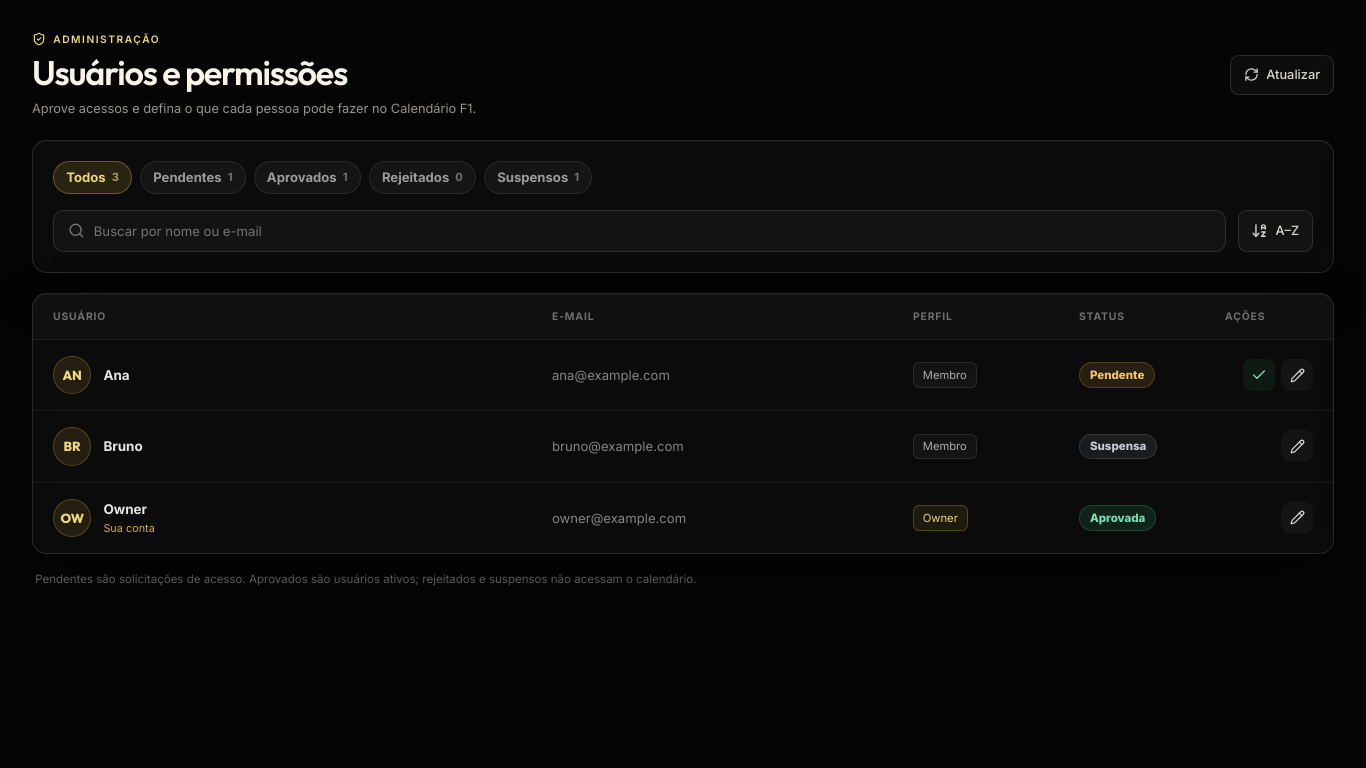
Test case: reference-style users panel › requires explicit deletion confirmation and updates only after success
Click the button named "Editar Ana". click: click(1297, 375)
box: [1281, 359, 1313, 391]
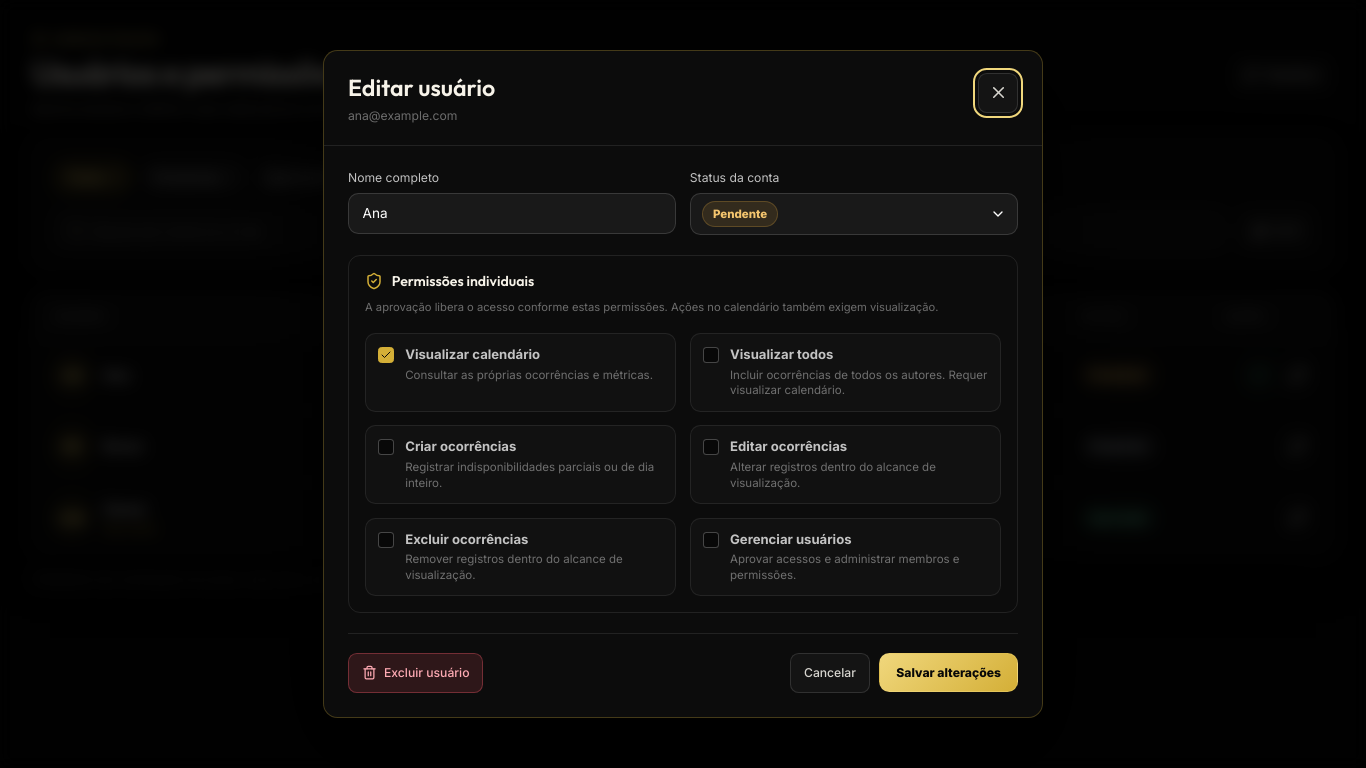
Click the button "Excluir usuário". click: click(416, 673)
box: [348, 653, 483, 693]
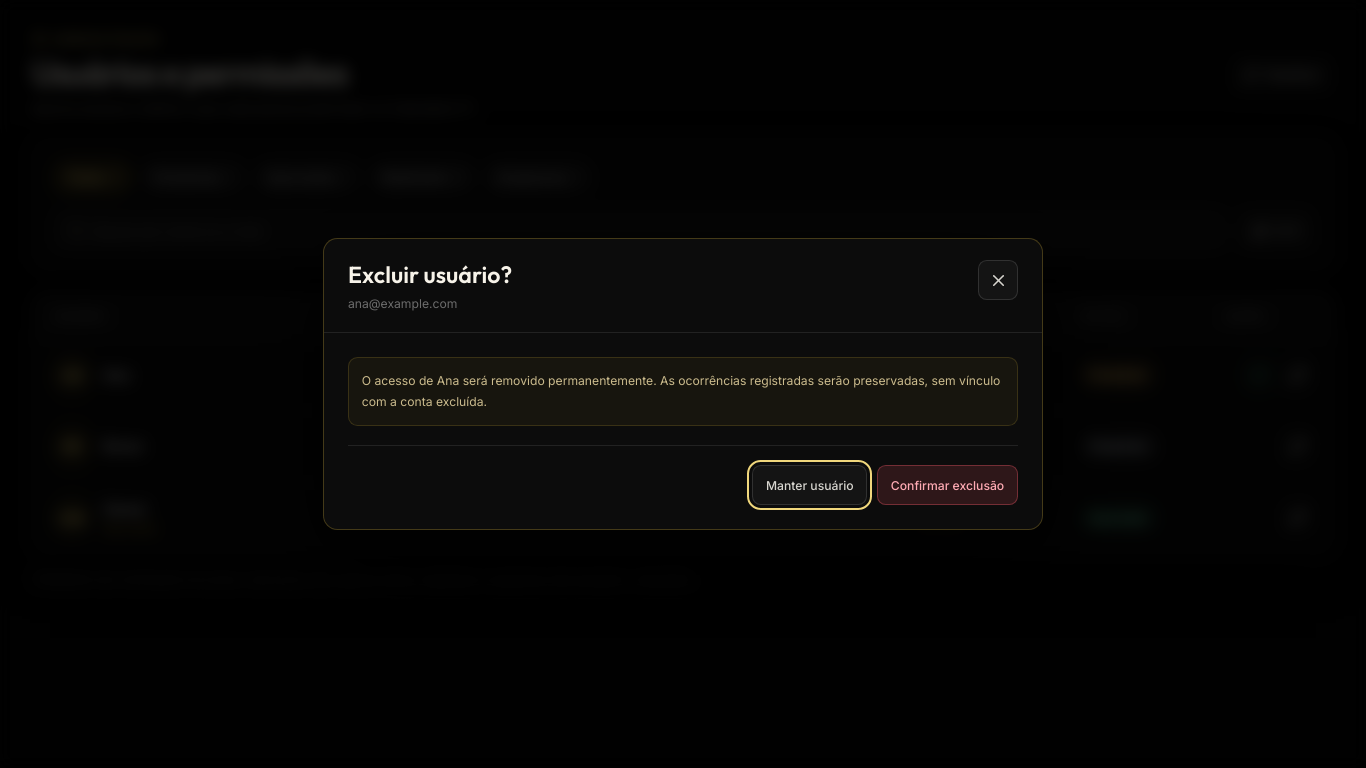
Click the button "Confirmar exclusão". click: click(948, 485)
box: [877, 465, 1018, 505]
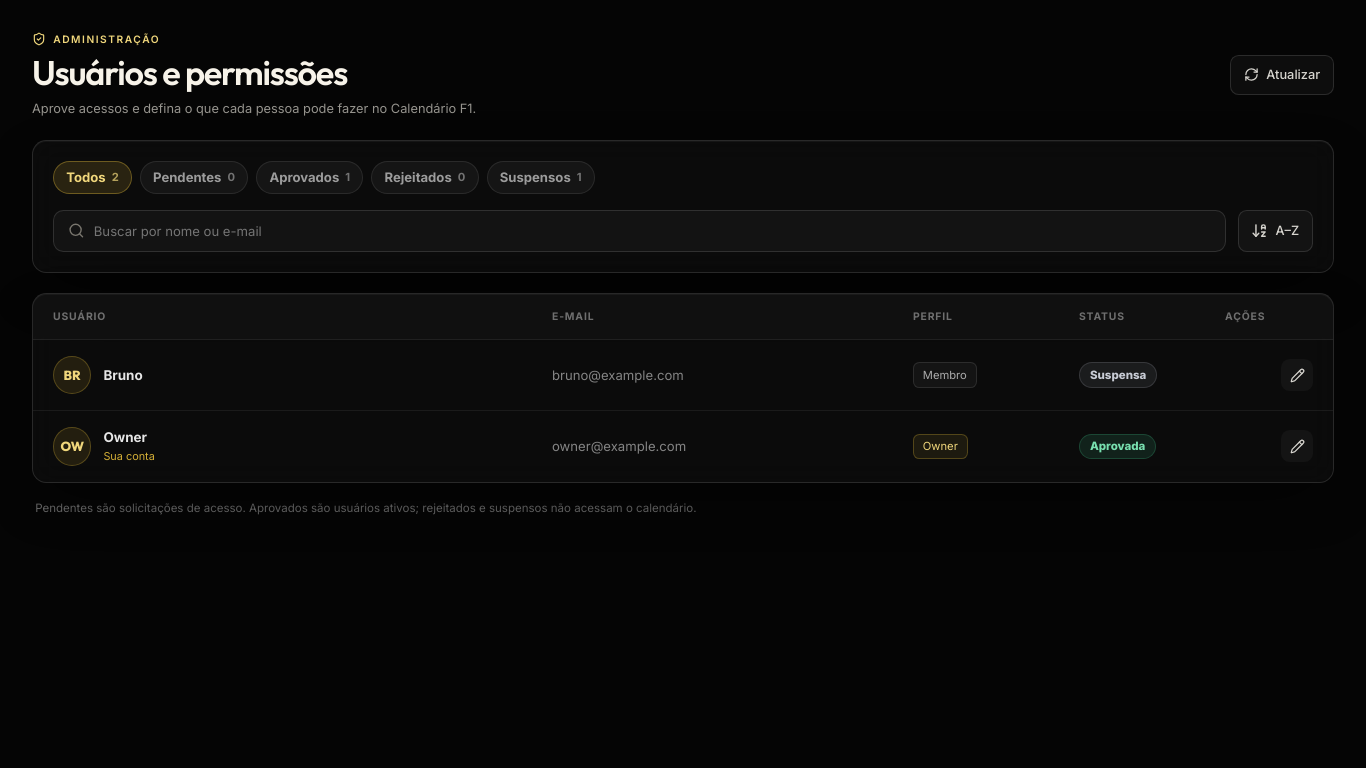
Check: the text "Ana" is gone
